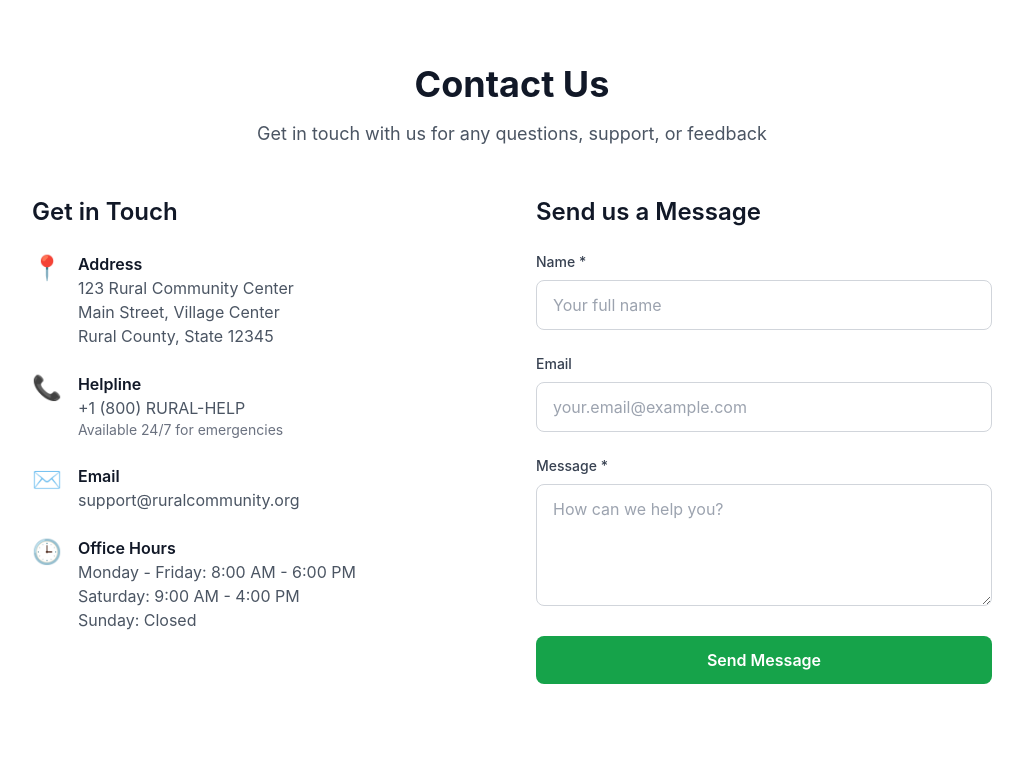
Test case: ContactSection › Form Validation › shows validation error for short message
The width and height of the screenshot is (1024, 768).
In the field labelled "Name *": (764, 305) [536,280,992,330], type "John Doe"
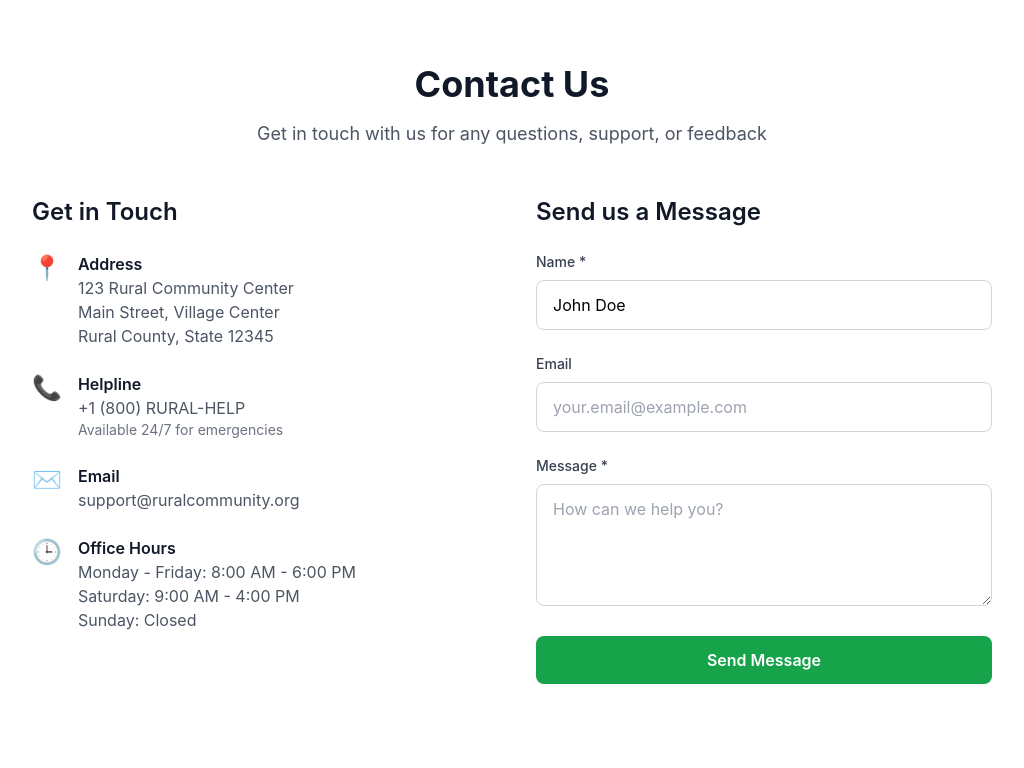
In the text box labelled "Message *": (764, 545) [536,484,992,606], type "Short"
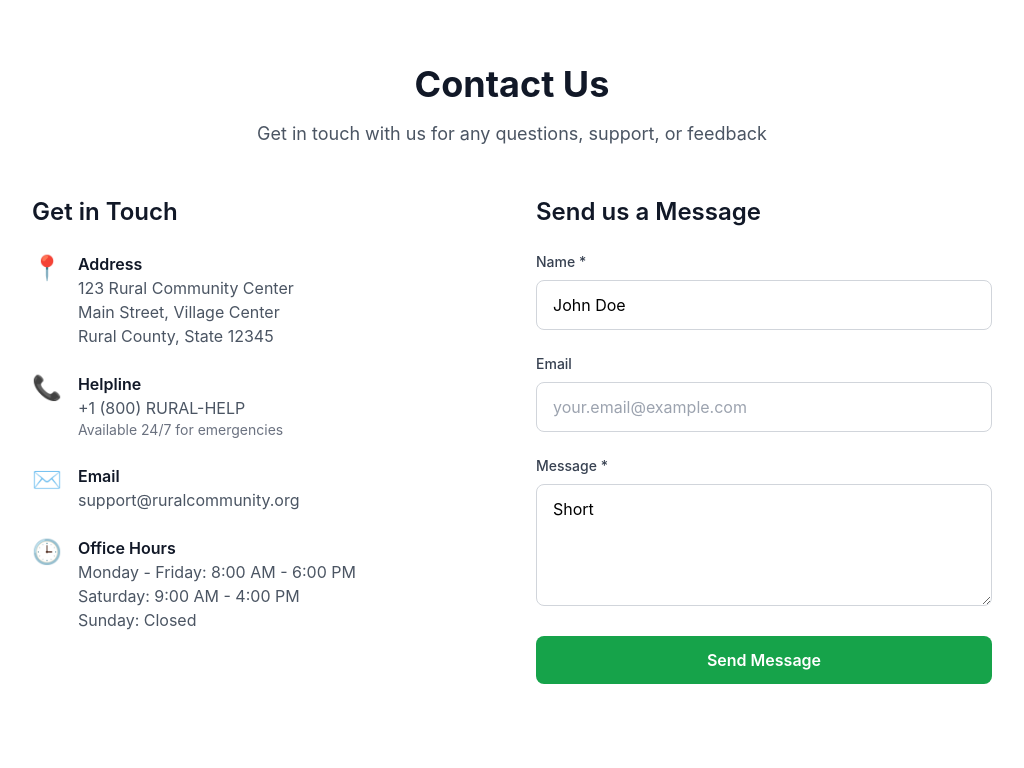
Click the button "Send Message": click(764, 660) [536,636,992,684]
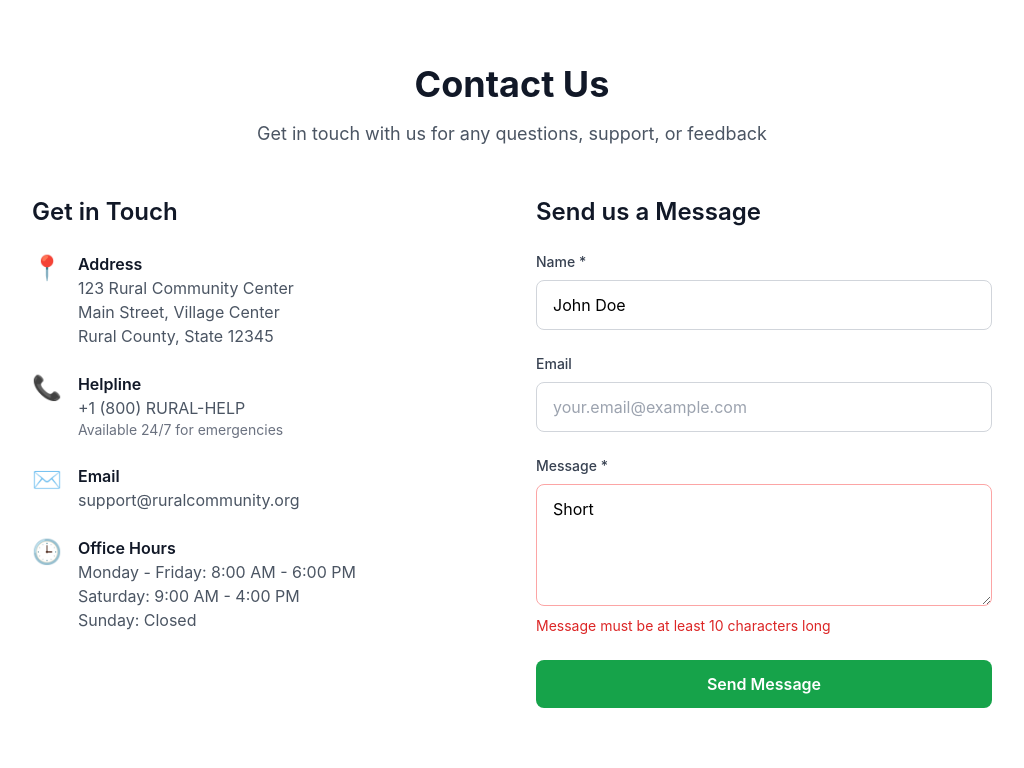
Now the text "Message must be at least 10 characters long" is shown, box [536,617,831,634]
